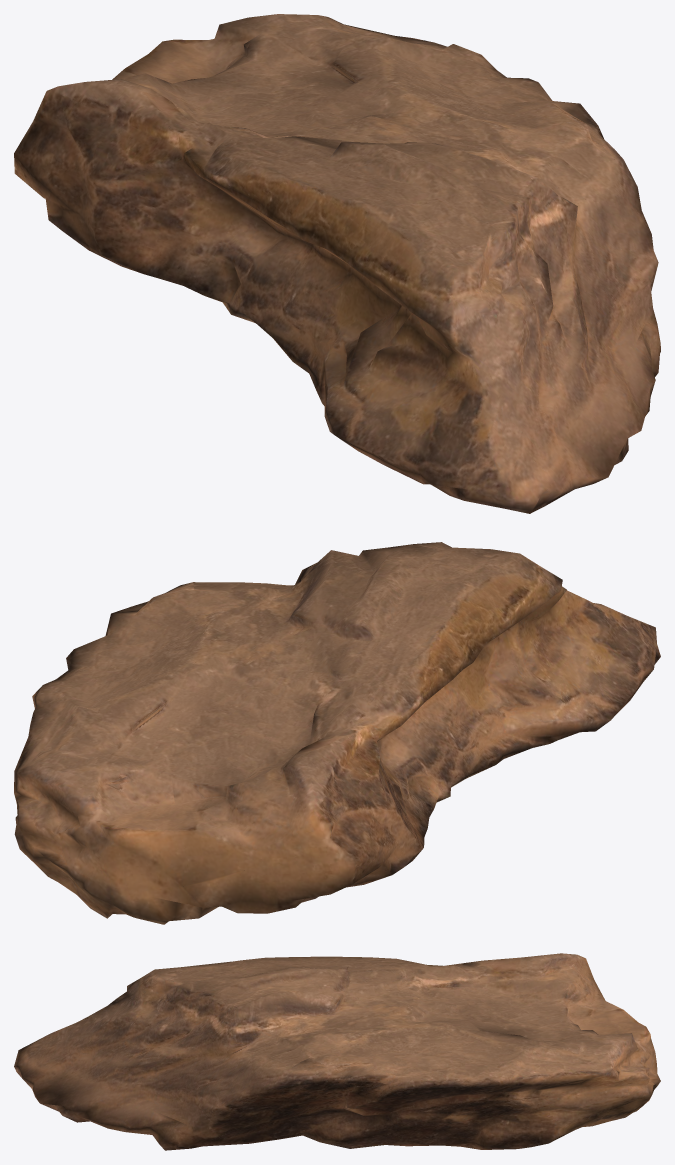
The model's file is mars-slab-ph09.glb.
3 renders of one model, top to bottom at view 1: azimuth 30°, elevation 25°; view 2: azimuth 150°, elevation 25°; view 3: azimuth 270°, elevation 25°, orthographic. The views are drawn at different scales.
Parts seen in each view (by area): view 1: mars-slab-ph09_LOD0; view 2: mars-slab-ph09_LOD0; view 3: mars-slab-ph09_LOD0.
Part boxes in pixels (bbox=[...]): mars-slab-ph09_LOD0: bbox=[14, 14, 660, 513]; mars-slab-ph09_LOD0: bbox=[14, 542, 660, 924]; mars-slab-ph09_LOD0: bbox=[14, 953, 660, 1150].
Size of what is drawn, in the model's own units: 1.23 by 0.5407 by 2.4.
Materials: 1 (1 with a texture image).
